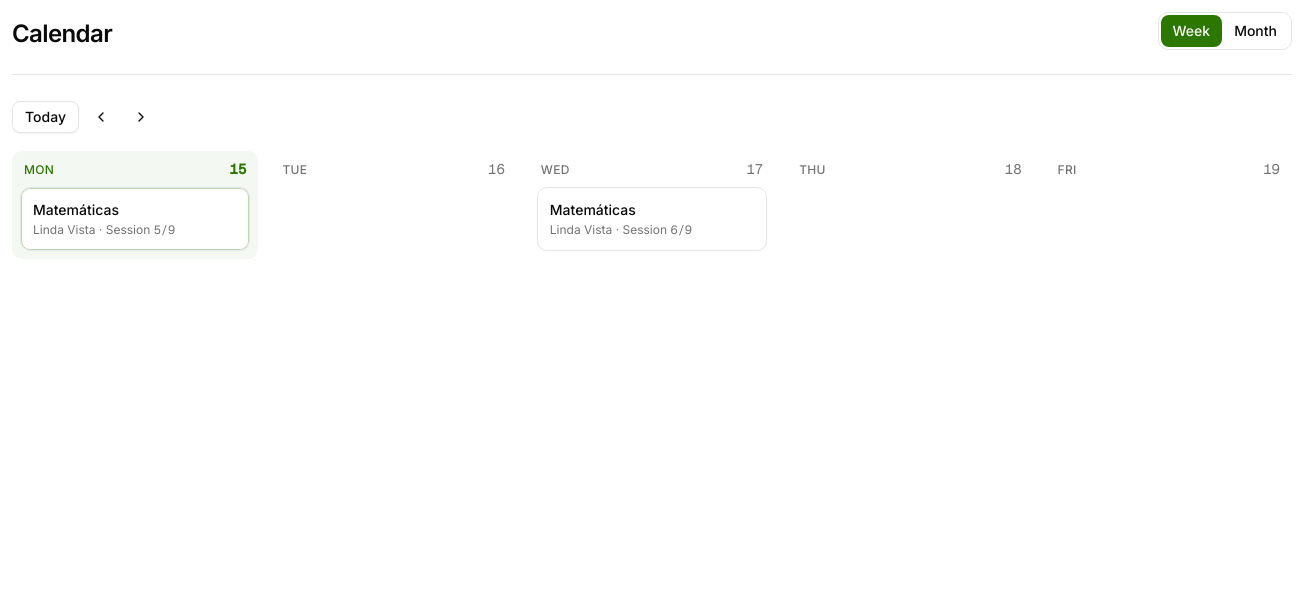
<CalendarPage /> › reads the month as a term map: the scoped cohorts’ milestones (ADR-0048)
The width and height of the screenshot is (1304, 614).
Click the button "Month": click(1256, 31) [1222,15,1289,47]
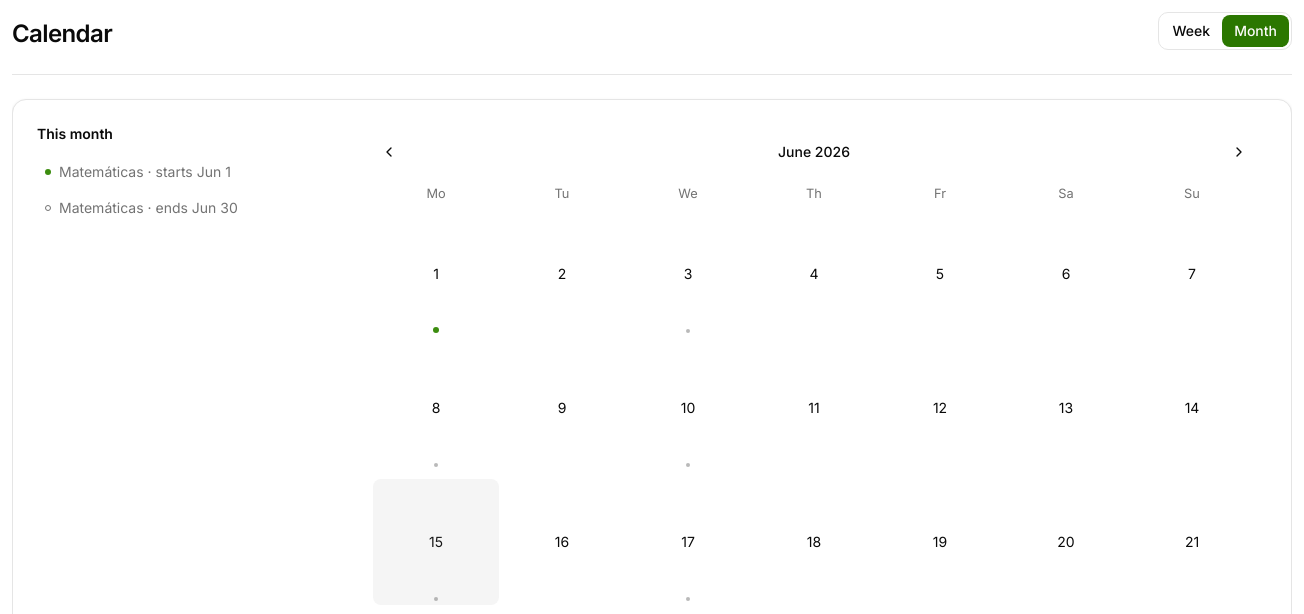
Expected: the heading "This month" is shown, [37,125,113,142]
Expected: the button "Matemáticas · starts Jun 1" is shown, [37,156,337,188]
Expected: the button "Matemáticas · ends Jun 30" is shown, [37,192,337,224]
